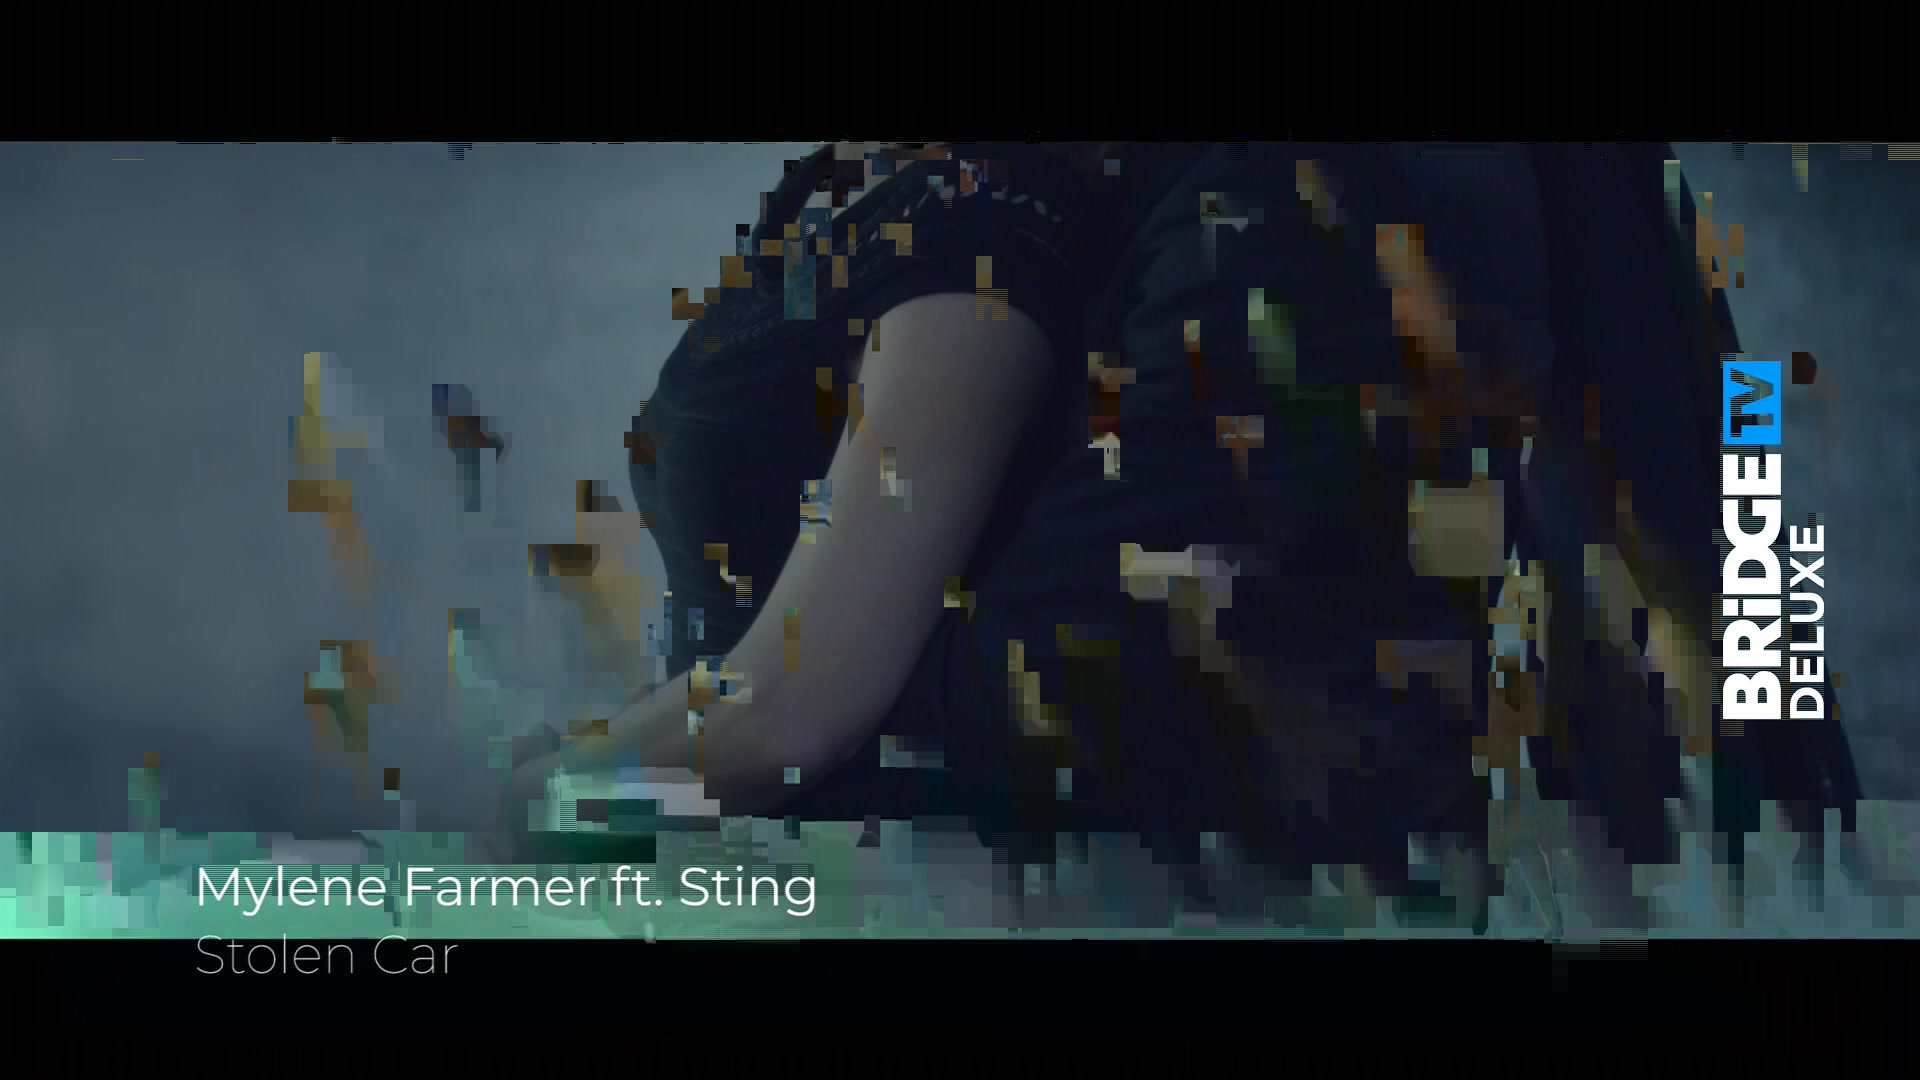Bridge_TV_Deluxe: (1716, 355, 1828, 727)
